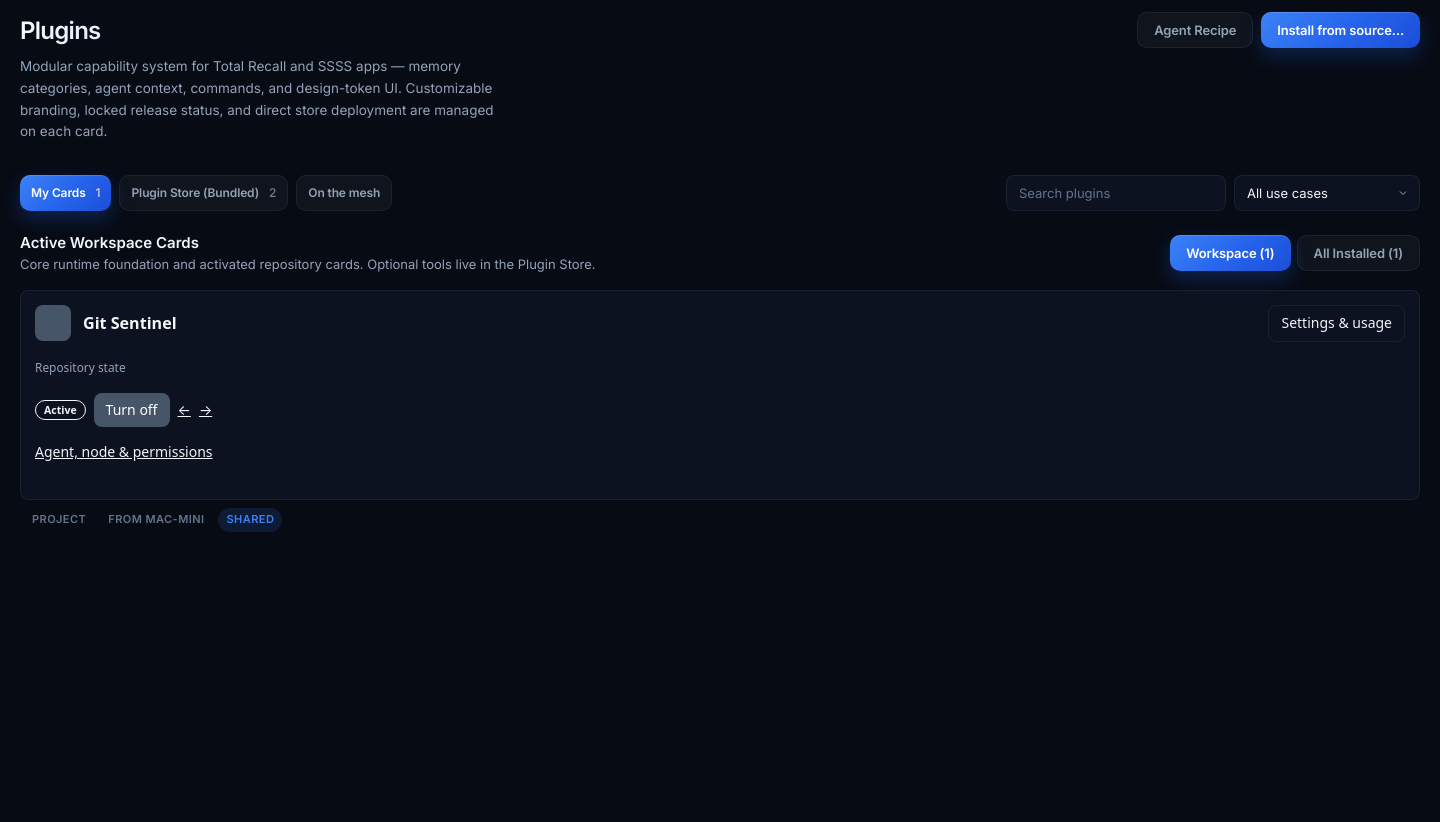
Test: PluginsPage › filters by use case
Expected: the text "from mac-mini" is shown, 108,512 -> 204,526
Click the tab "Plugin Store (Bundled) 2" at (204, 193), box 120,175 -> 288,211
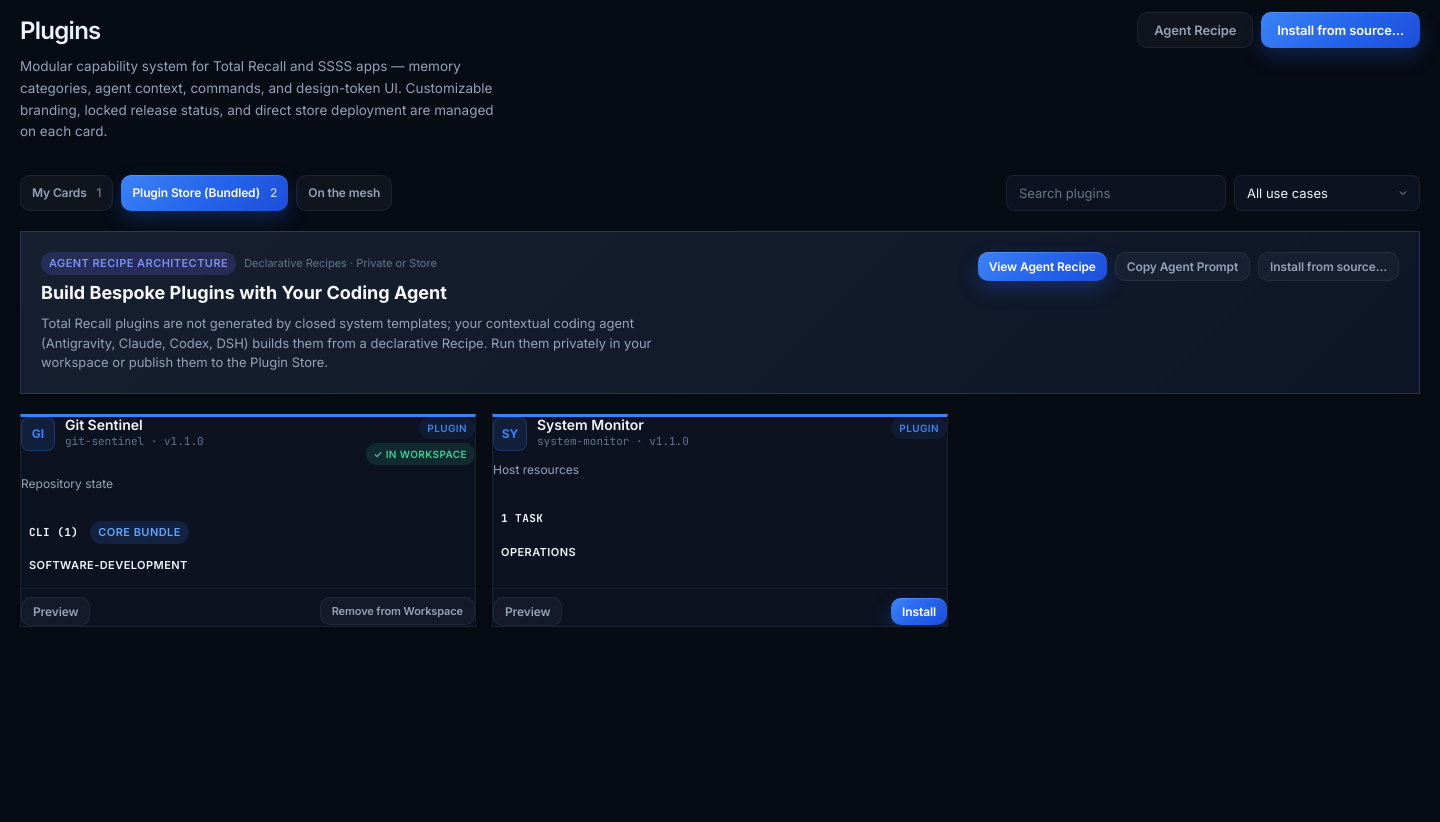
Select "operations" in the dropdown named "Filter by use case" at (1327, 193), box 1234,175 -> 1420,211
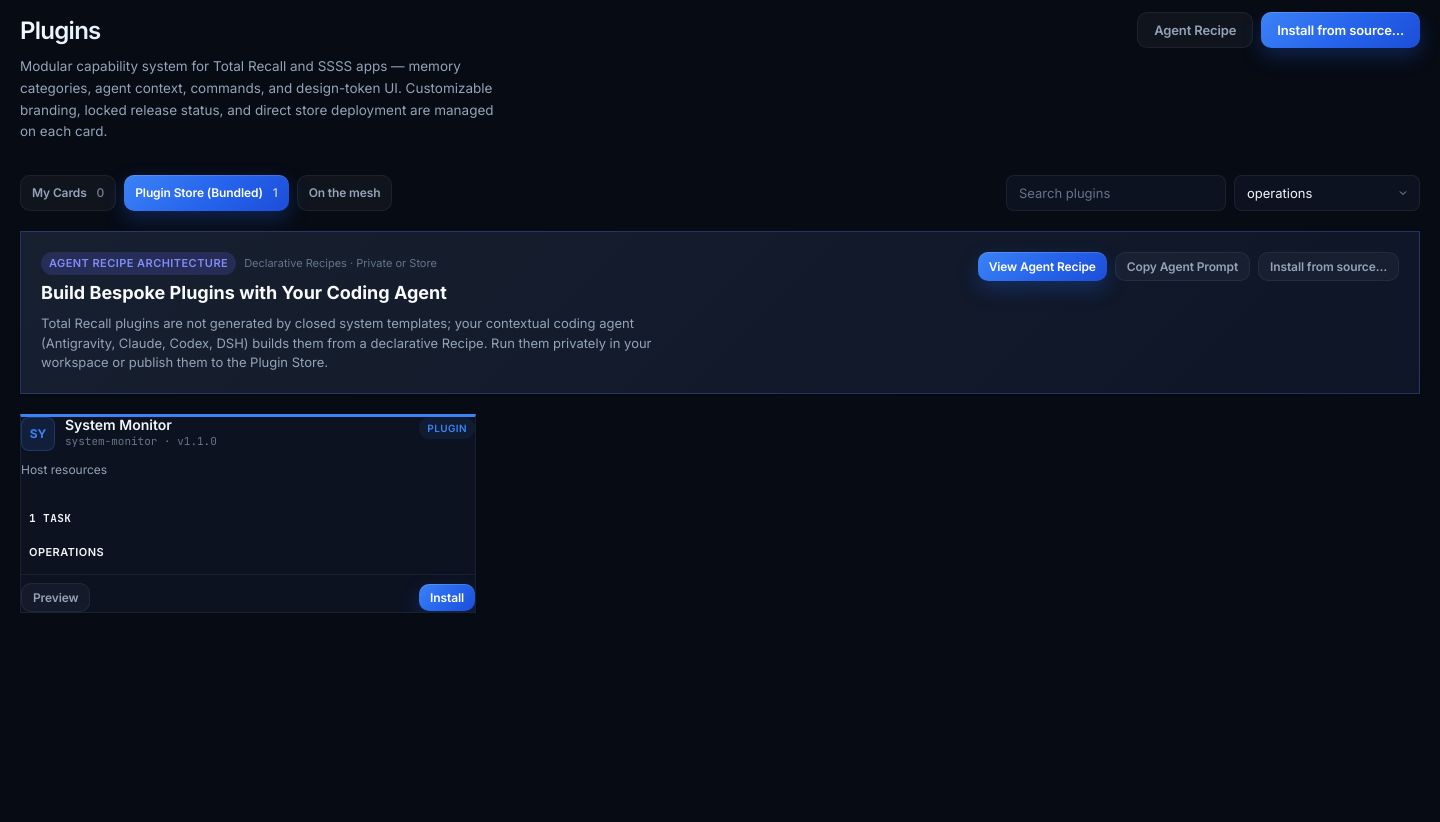
Now the text "System Monitor" is shown, box 65,416 -> 172,433
Now the text "Repository state" is gone
